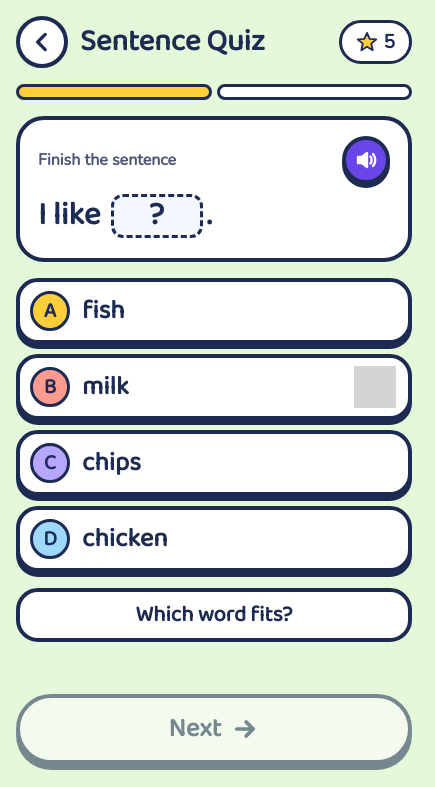
Test: SentencePick screen › shows the picked word in the blank and says oops on a wrong pick
Click the button with aria-label "A: fish" at [50, 311], box top-left (16, 278), bottom-right (412, 344)
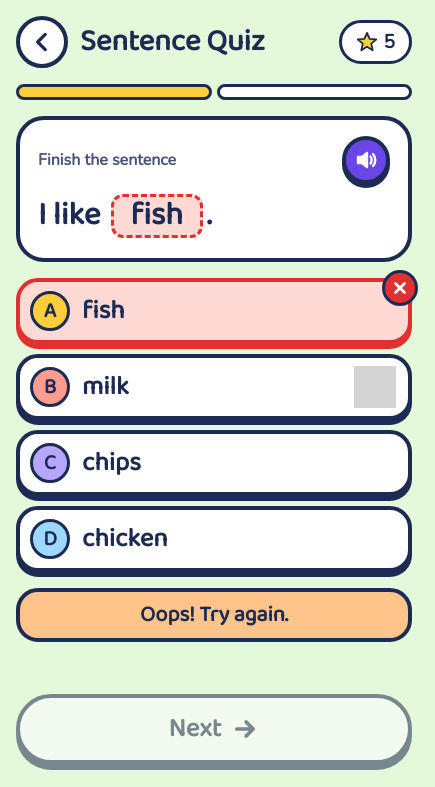
Expected: the button "Next" is disabled, top-left (16, 694), bottom-right (412, 764)
Expected: the message reads "Oops! Try again.", top-left (140, 597), bottom-right (288, 633)
Expected: the text with class "sentence-pick__blank" reads "fish", top-left (130, 190), bottom-right (183, 241)
